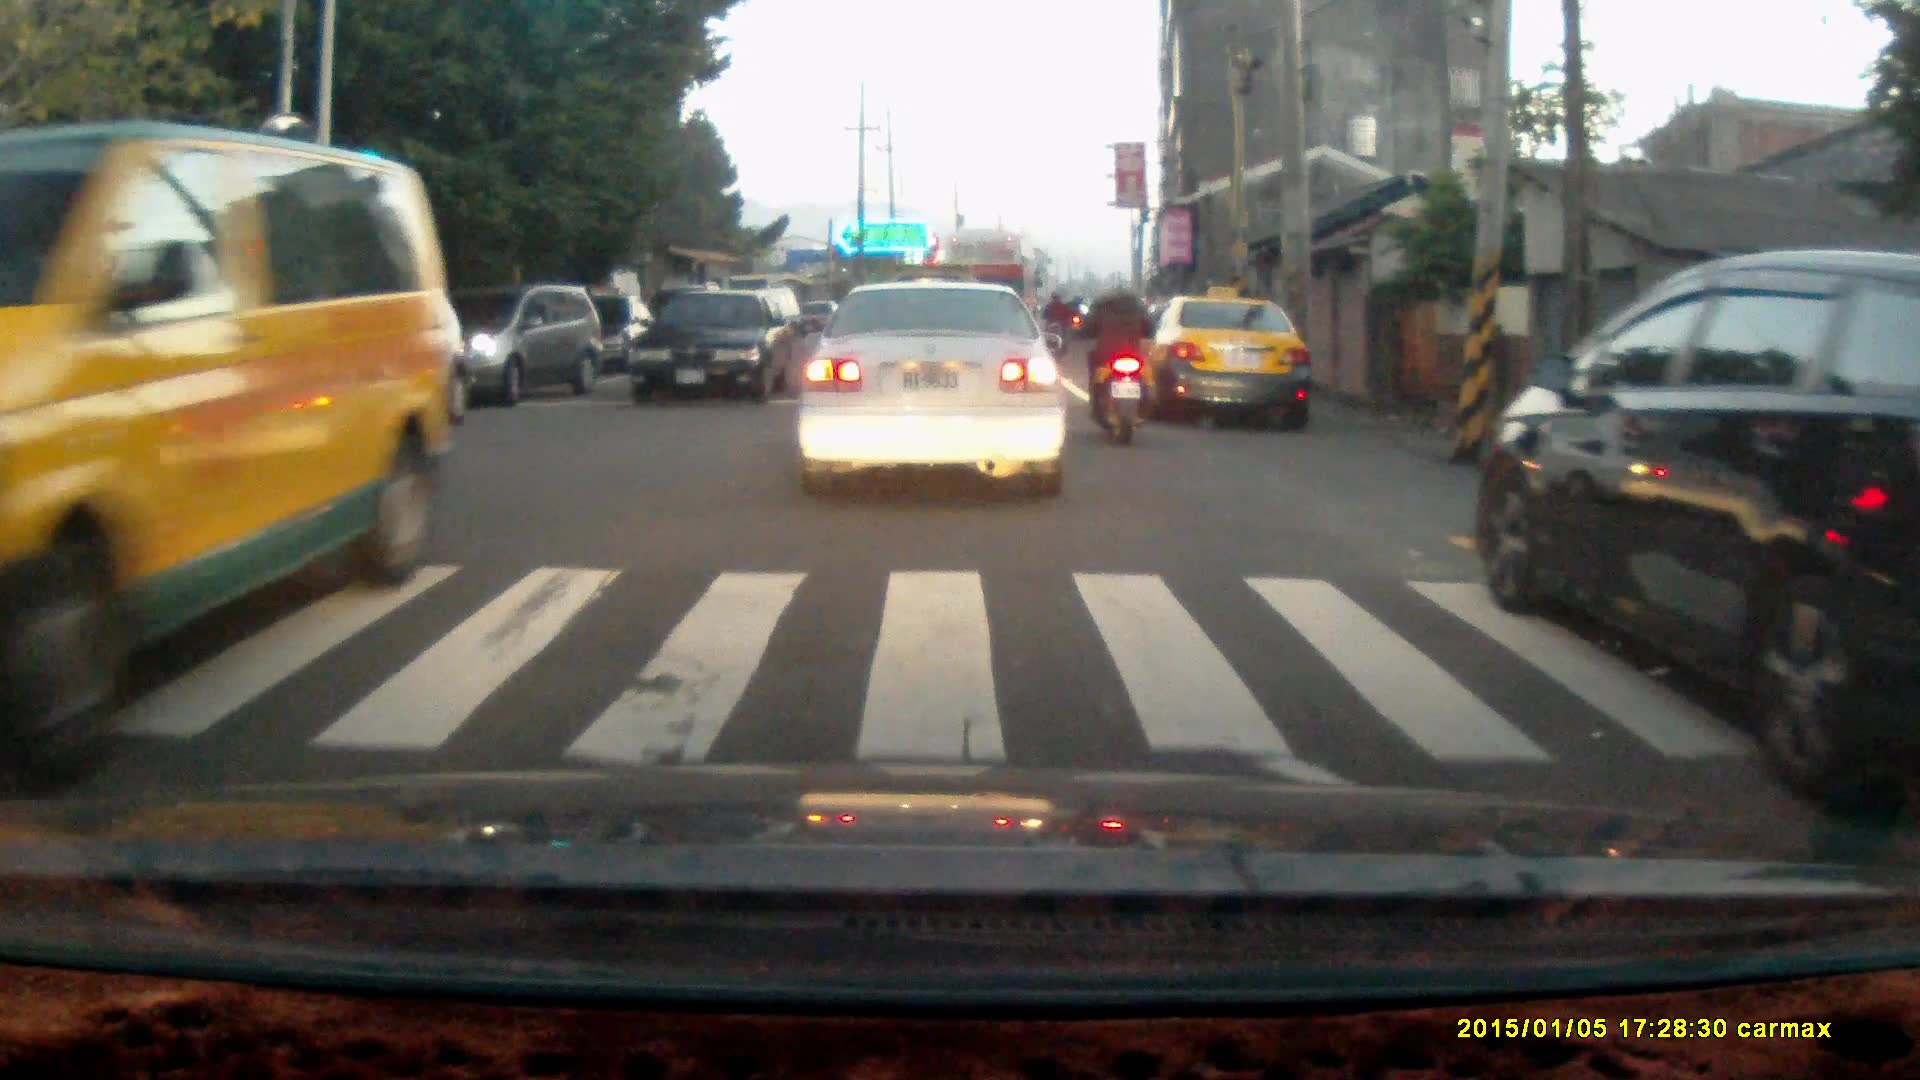rider: (1076, 267, 1159, 447)
vehicle: (13, 123, 471, 764), (1486, 249, 1920, 755), (797, 277, 1073, 502), (1135, 294, 1313, 429), (626, 286, 797, 410)
